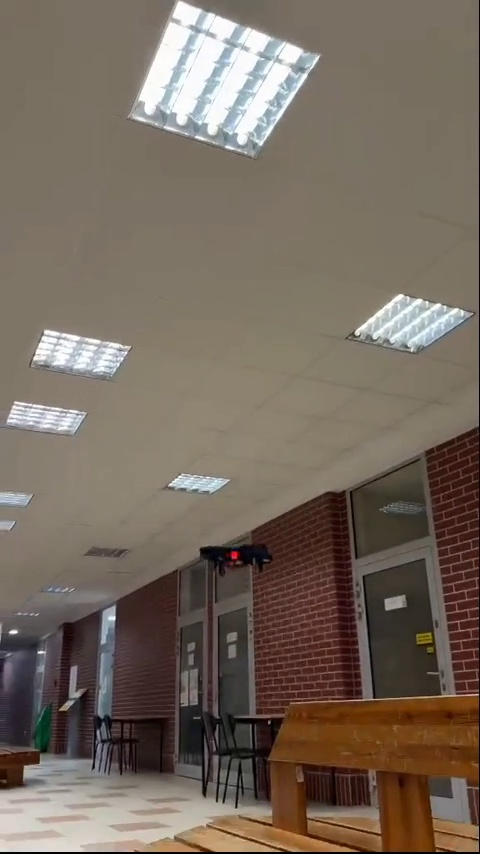drone: (198, 536, 271, 575)
